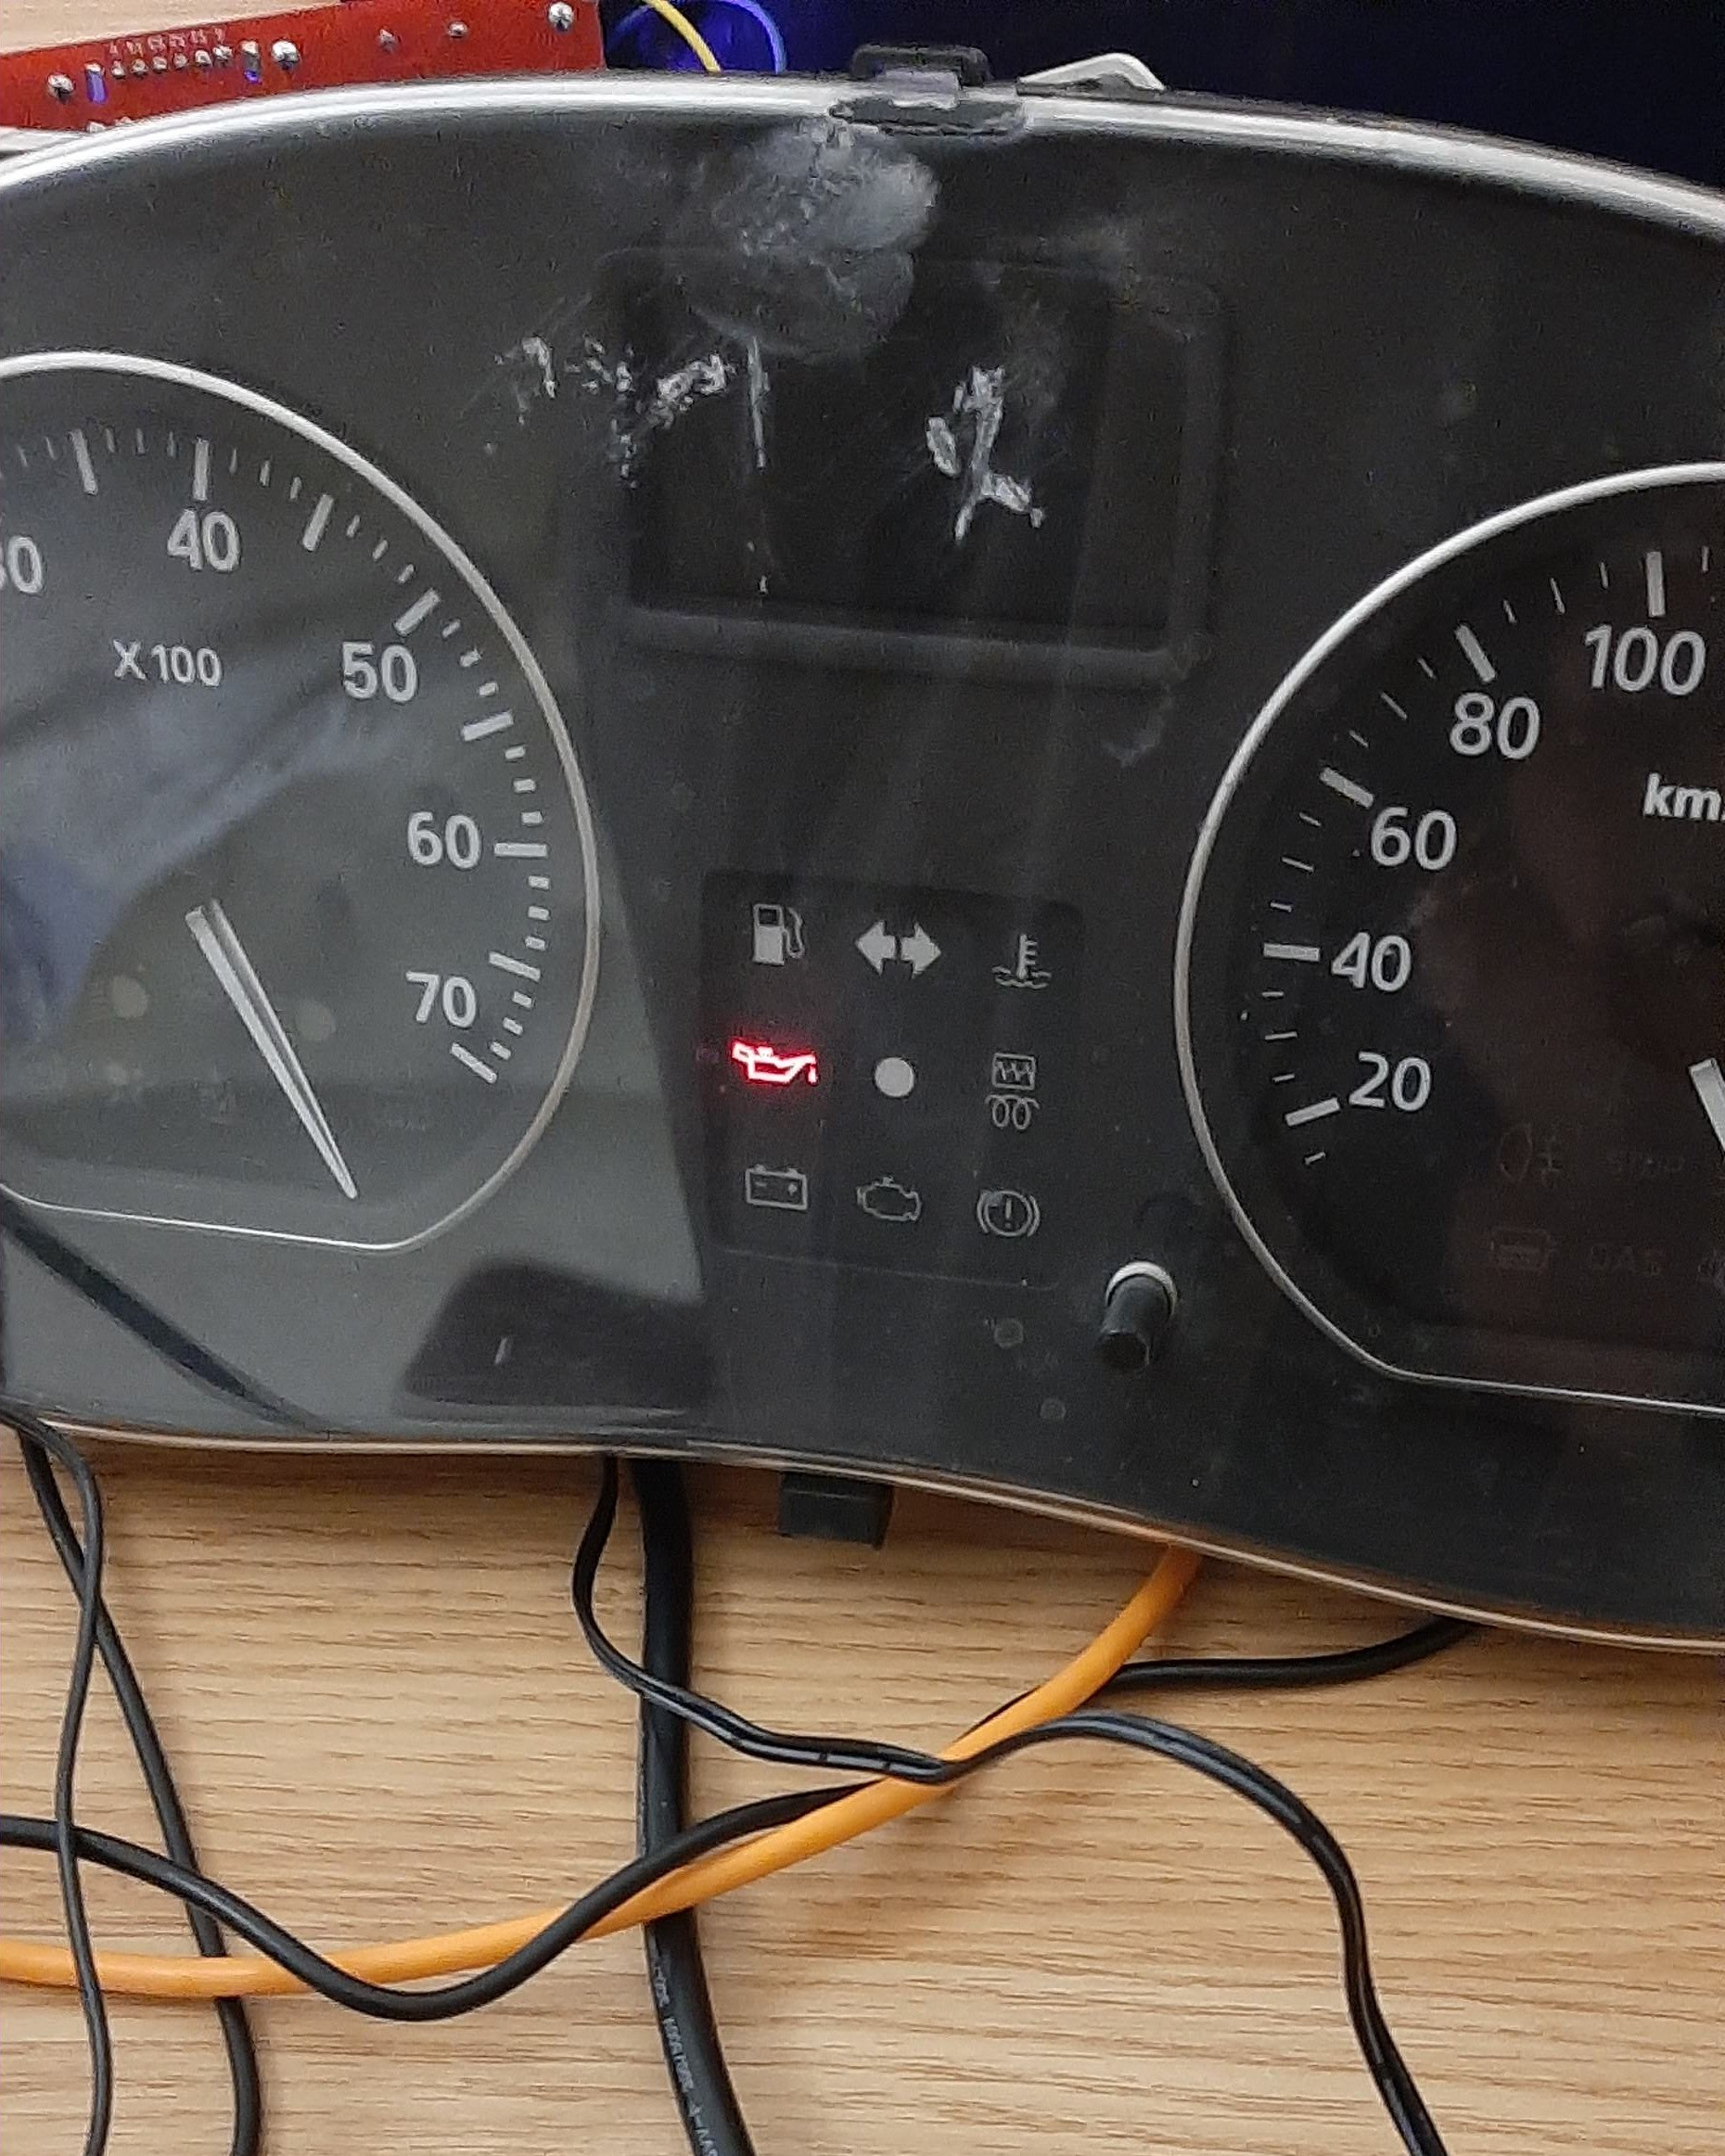oil23: (729, 1035, 822, 1088)
